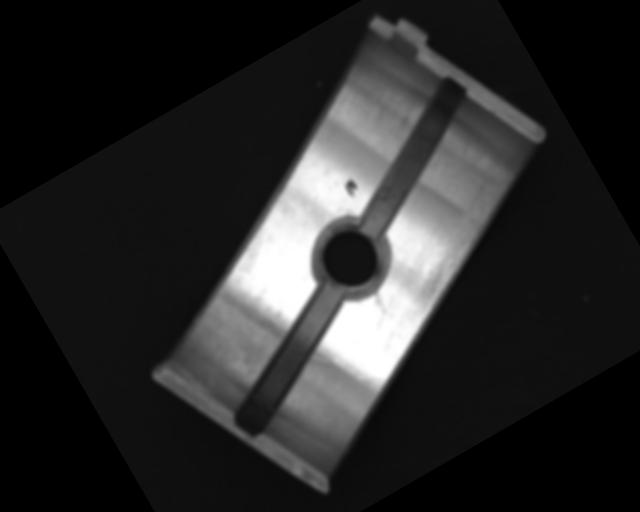blot: (341, 176, 360, 198)
gap: (319, 72, 506, 239), (198, 280, 378, 439)
hole: (297, 205, 405, 313)
nick: (331, 339, 388, 402), (370, 291, 389, 315)
scratch: (382, 176, 549, 319)
